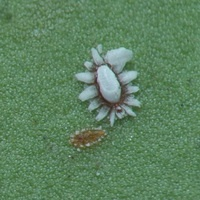insect: (75, 45, 140, 125), (69, 127, 106, 147)
